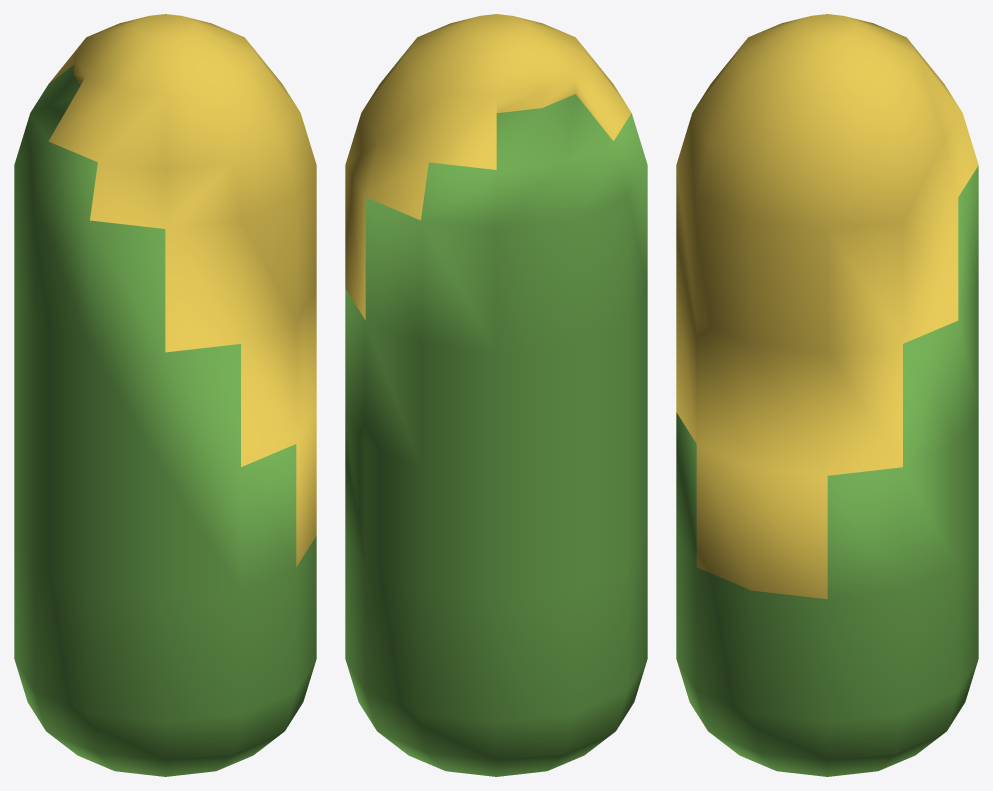
Rendered from corn_product.glb.
3 renders of one model, left to right at view 1: azimuth 30°, elevation 25°; view 2: azimuth 150°, elevation 25°; view 3: azimuth 270°, elevation 25°, orthographic.
Parts seen in each view (by area): view 1: Cylinder; view 2: Cylinder; view 3: Cylinder.
Part boxes in pixels (x1,y1,x2,y2): Cylinder: [14, 14, 316, 776]; Cylinder: [345, 14, 647, 776]; Cylinder: [676, 14, 978, 776].
Size of the model in its own units: 0.12 by 0.3145 by 0.12.
